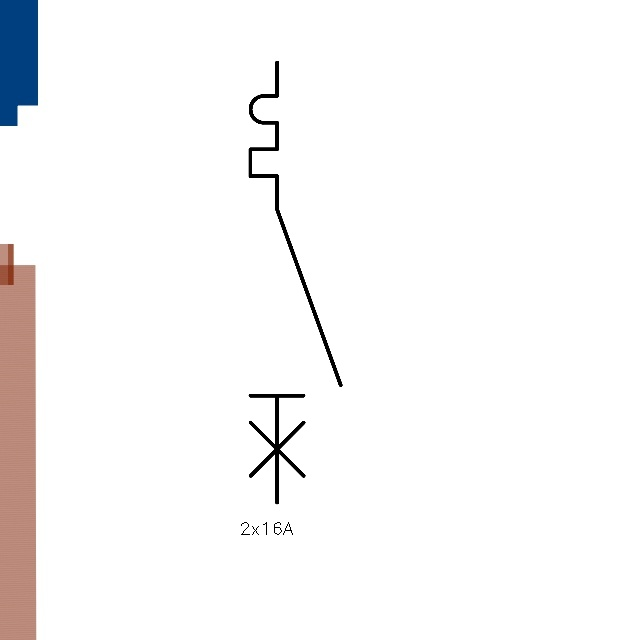interruptor_termomagnetico: (239, 51, 352, 514)
